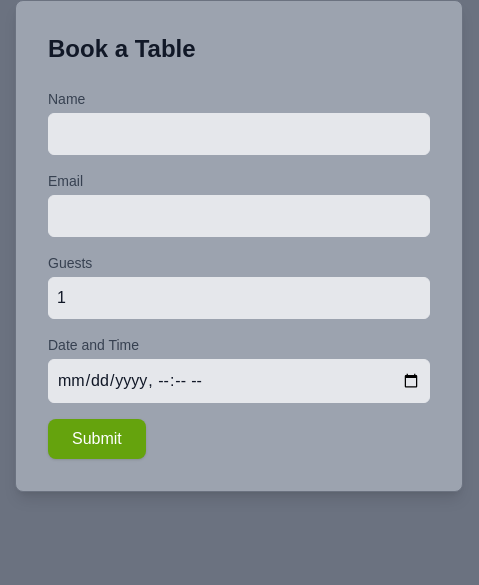
it: BookingForm › should display a validation error for an invalid email format
Type "invalid-email" into the field labelled "Email" at (239, 216), box [48, 195, 430, 237]
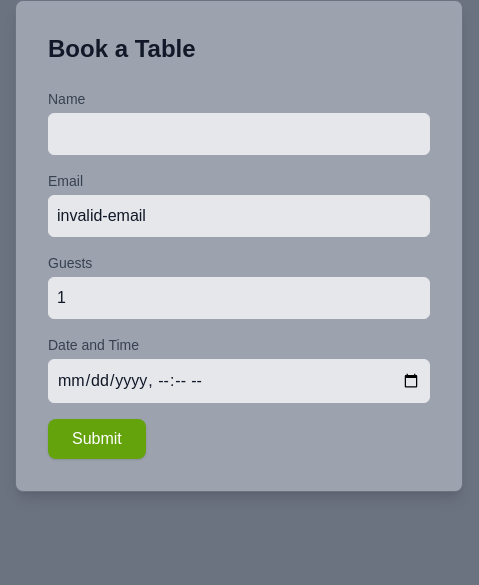
Click the button "Submit" at (97, 439), box [48, 419, 146, 459]
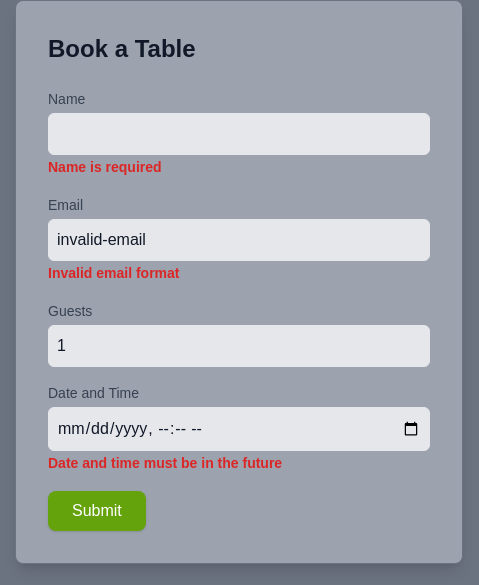
Now the text "Invalid email format" is shown, box [48, 265, 180, 281]
